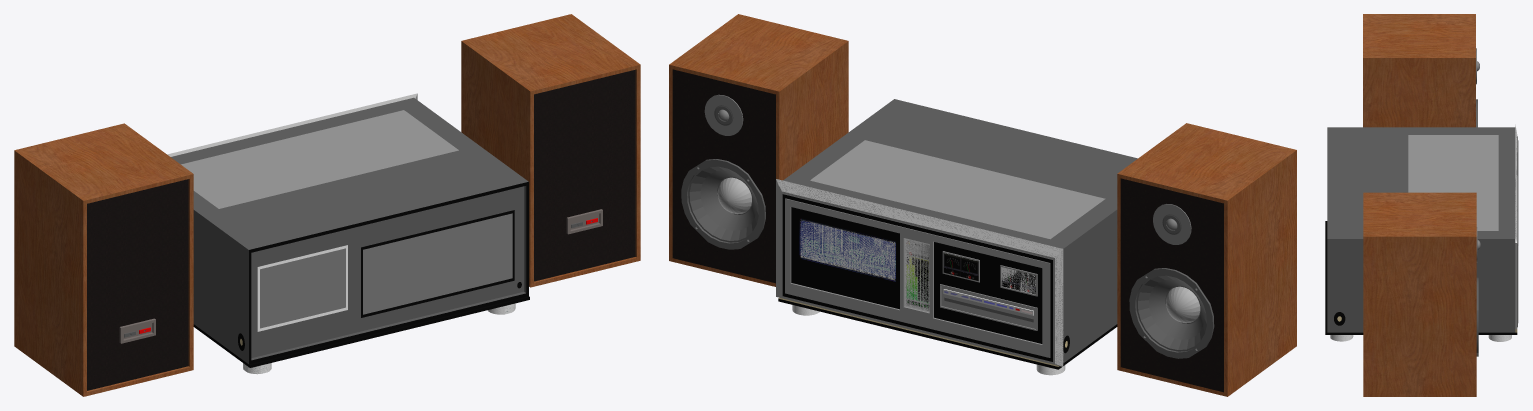
Rendered from stereo.fbx.
3 views of the same model, side by side, from view 1: azimuth 30°, elevation 25°; view 2: azimuth 150°, elevation 25°; view 3: azimuth 270°, elevation 25° (orthographic). The views are drawn at different scales.
Visible parts, largest first — view 1: polySurface416; view 2: polySurface416; view 3: polySurface416.
Boxes of the visible parts, x1,y1,x2,y2 form: polySurface416: (14, 14, 640, 396); polySurface416: (669, 14, 1296, 396); polySurface416: (1325, 14, 1518, 396).
Size of the model in its own units: 228 by 76.83 by 83.57.
24 materials, 6 textured.
